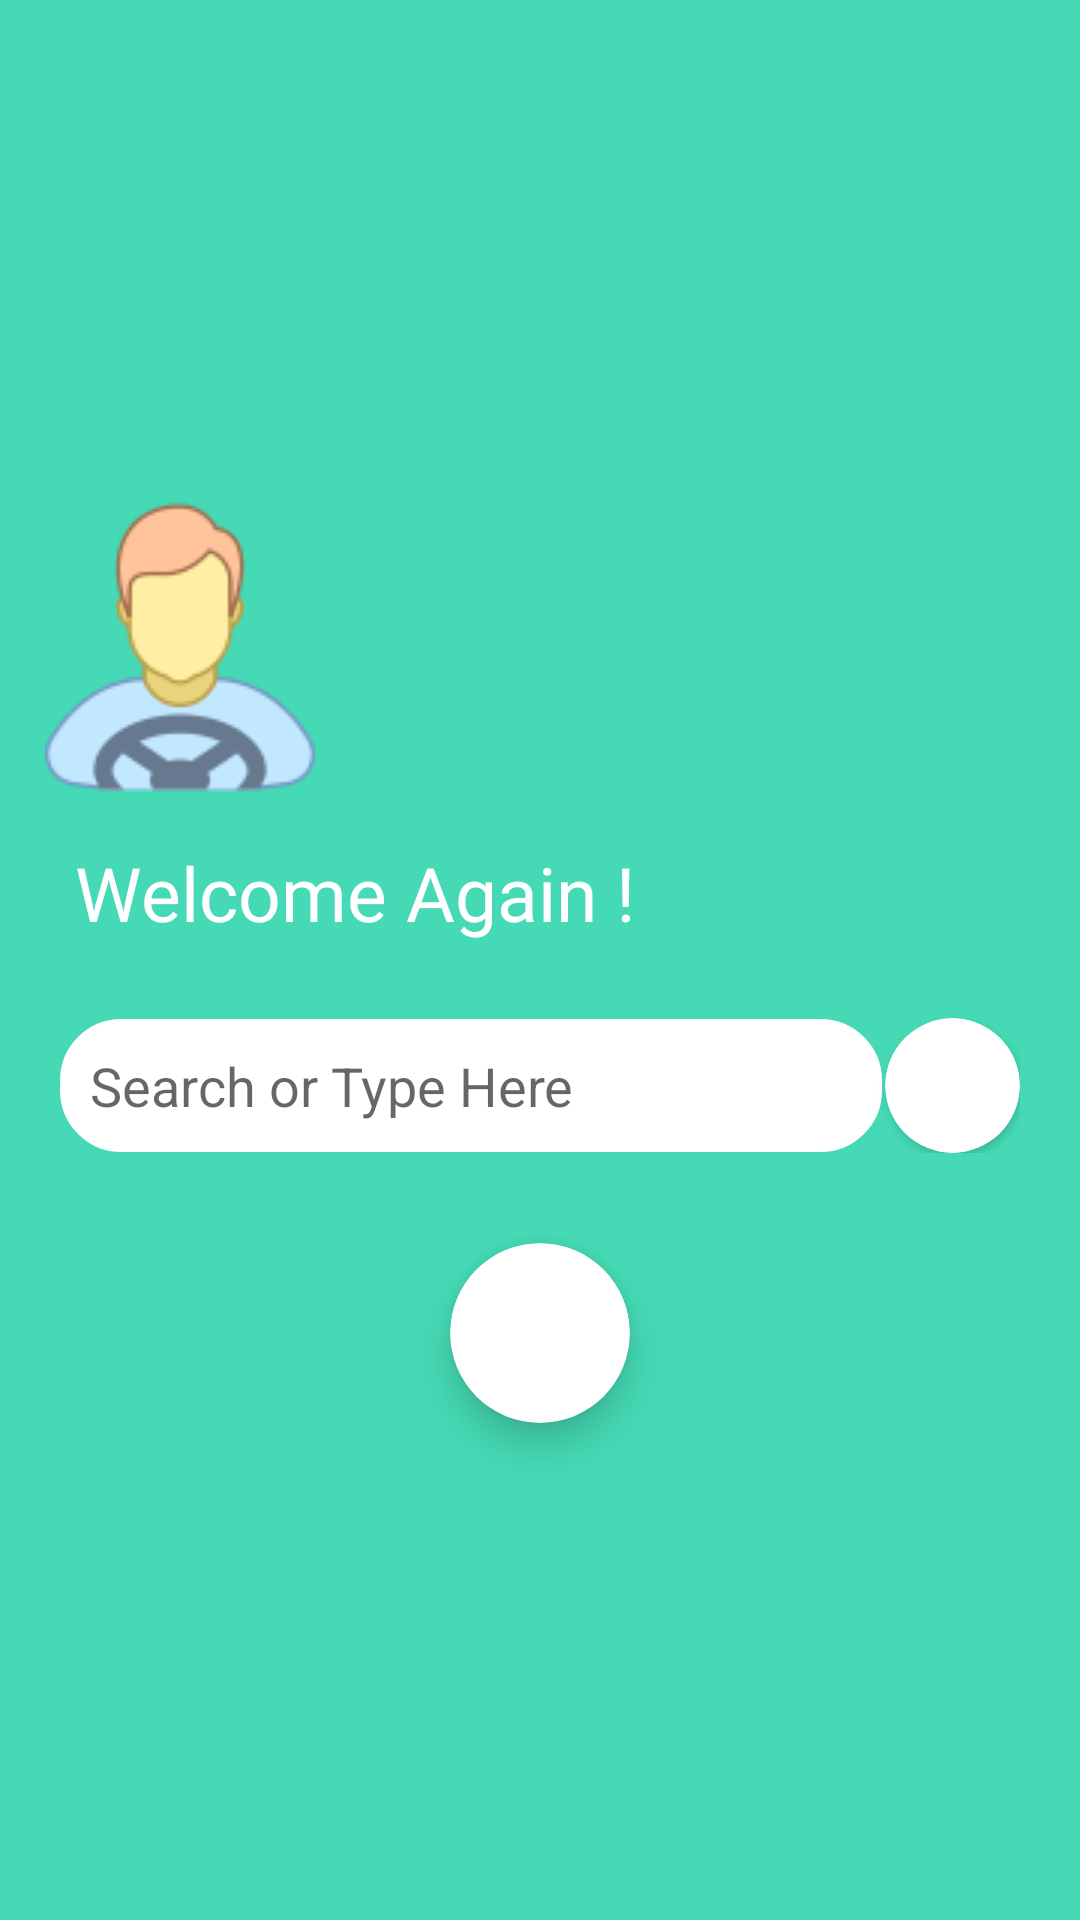

Screen size 1080×1920. Icon name, then its center in pixels as (x=x, y=y):
driver: (x=180, y=647)
